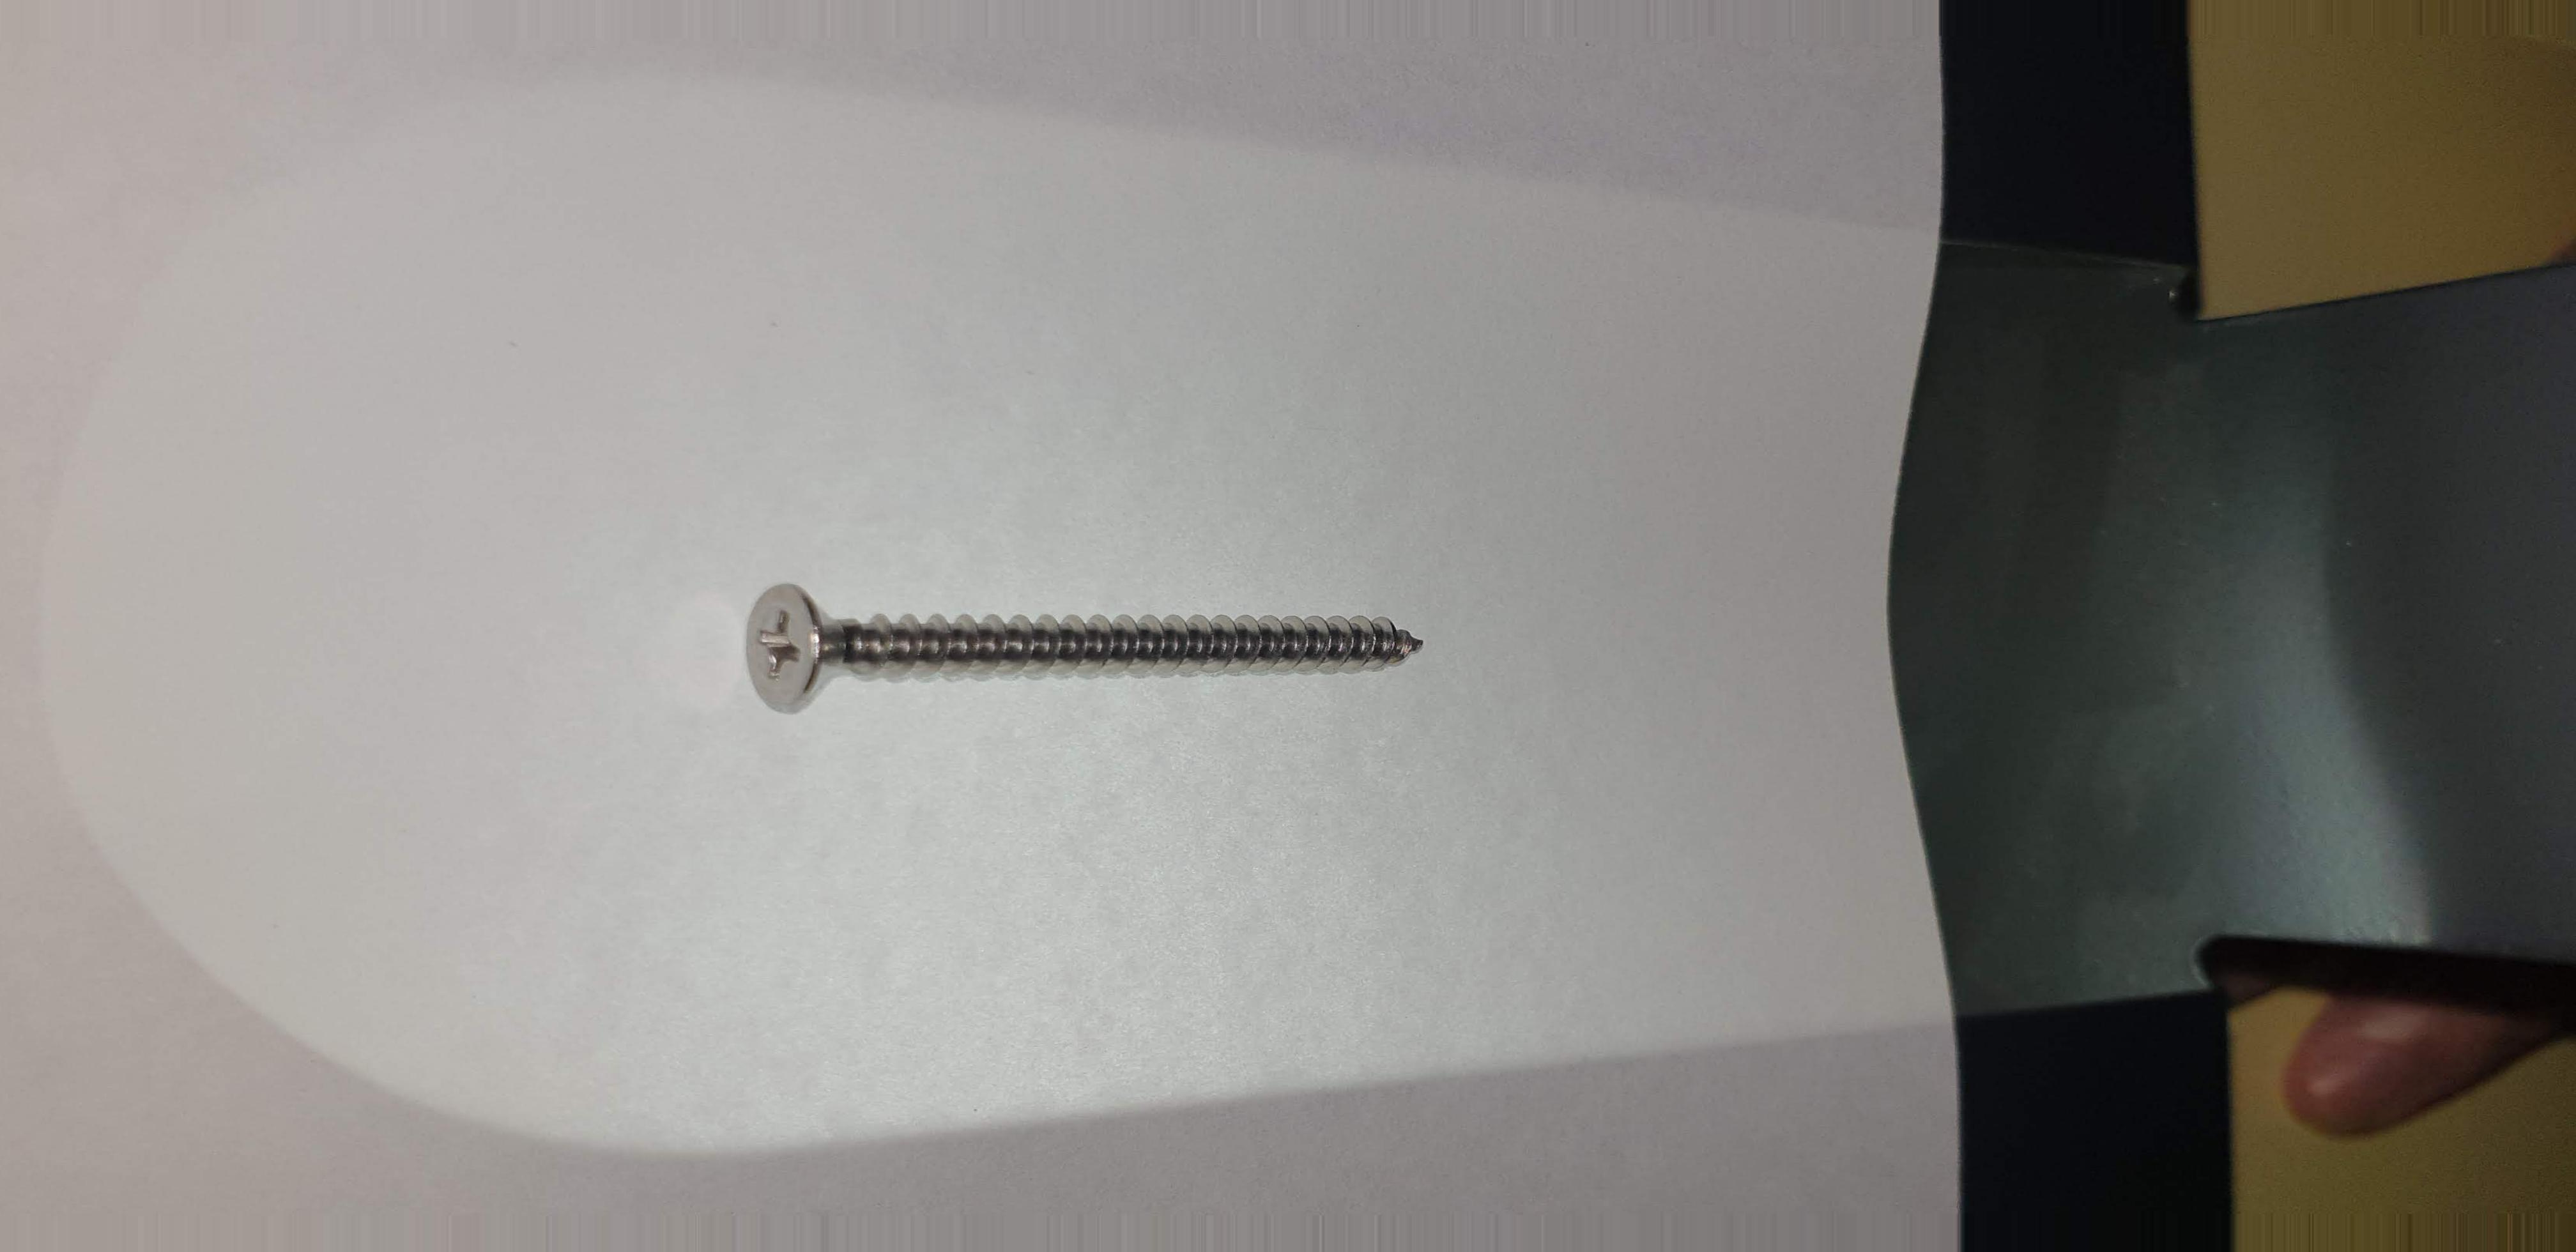fastener: (688, 531, 1493, 753)
